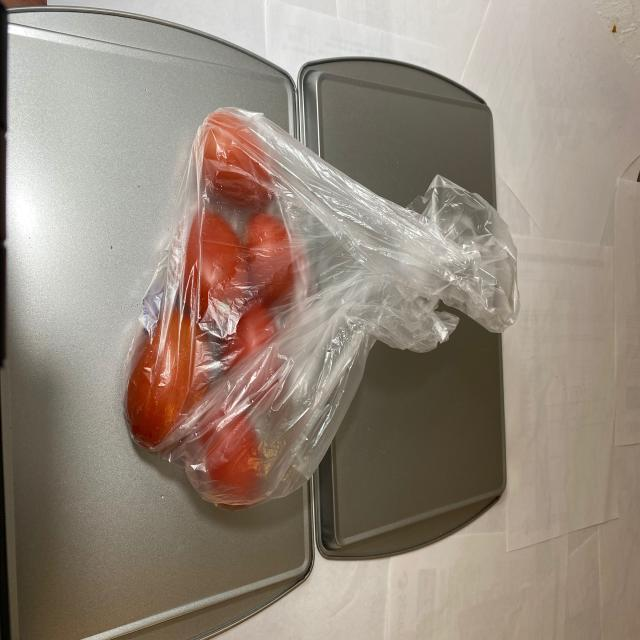tomato: (125, 104, 295, 514)
